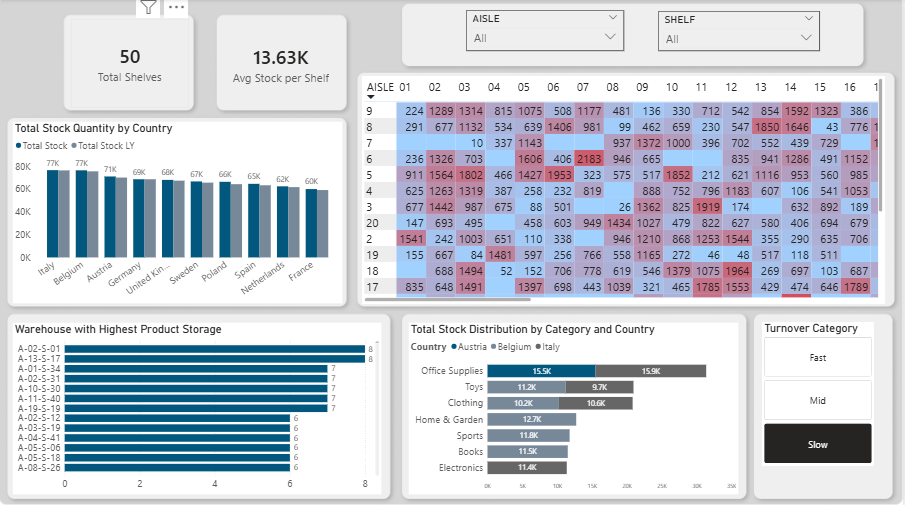

This screenshot's page, from the dashboard's own definition file:
{"tool":"powerbi","page":{"name":"Warehouse Analysis","canvas":[1920,1080],"ordinal":2},"visuals":[{"type":"clusteredBarChart","title":"Warehouse with Highest Product Storage","fields":{"Y":["Metrix_Table.Total_Products"],"Category":["Inventory.Warehouse_Location - Short"]},"box":[27.6,686.7,786.6,367.8],"z":0},{"type":"clusteredColumnChart","title":"Total Stock Quantity by Country","fields":{"Category":["Inventory.Country"],"Y":["Metrix_Table.Total Stock","Metrix_Table.Total Stock LY"]},"box":[27.6,259.4,703.7,389.1],"z":1000},{"type":"barChart","title":"Total Stock Distribution by Category and Country","fields":{"Category":["Inventory.Category"],"Y":["Metrix_Table.Total Stock"],"Series":["Inventory.Country"]},"box":[869.5,686.7,703.7,367.8],"z":2000},{"type":"advancedSlicerVisual","fields":{"Values":["Inventory.Turnover Category"]},"box":[1622.1,686.7,238.1,306.1],"z":3000},{"type":"pivotTable","fields":{"Values":["Metrix_Table.Total Stock"],"Rows":["Inventory.AISLE"],"Columns":["Inventory.SHELF"]},"box":[771.7,163.7,1111.9,484.7],"z":4000},{"type":"cardVisual","fields":{"Data":["Metrix_Table.Total Shelves"]},"box":[153.1,42.5,250.9,189.2],"z":5000},{"type":"slicer","fields":{"Values":["Inventory.AISLE"]},"box":[992.8,23.4,335.9,87.2],"z":6000},{"type":"slicer","fields":{"Values":["Inventory.SHELF"]},"box":[1401,25.5,344.4,85],"z":7000},{"type":"cardVisual","fields":{"Data":["Metrix_Table.Avg Stock per Shelf"]},"box":[465.6,42.5,265.7,189.2],"z":8000}]}

Visuals, with their boxes in screenshot pixels (x1, y1, x2, y2), scaled from the page's 1920x1080 canvas onto the 905x505 screenshot:
"Warehouse with Highest Product Storage" clusteredBarChart: crop(13, 321, 384, 493)
"Total Stock Quantity by Country" clusteredColumnChart: crop(13, 121, 345, 303)
"Total Stock Distribution by Category and Country" barChart: crop(410, 321, 742, 493)
advancedSlicerVisual - Inventory.Turnover Category: crop(765, 321, 877, 464)
pivotTable - Metrix_Table.Total Stock x Inventory.AISLE: crop(364, 77, 888, 303)
cardVisual - Metrix_Table.Total Shelves: crop(72, 20, 190, 108)
slicer - Inventory.AISLE: crop(468, 11, 626, 52)
slicer - Inventory.SHELF: crop(660, 12, 823, 52)
cardVisual - Metrix_Table.Avg Stock per Shelf: crop(219, 20, 345, 108)
